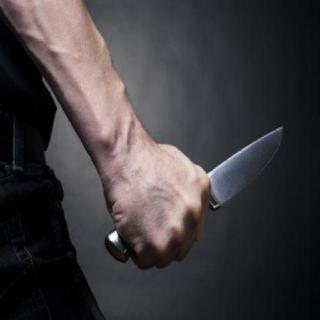knife: (133, 117, 287, 265)
